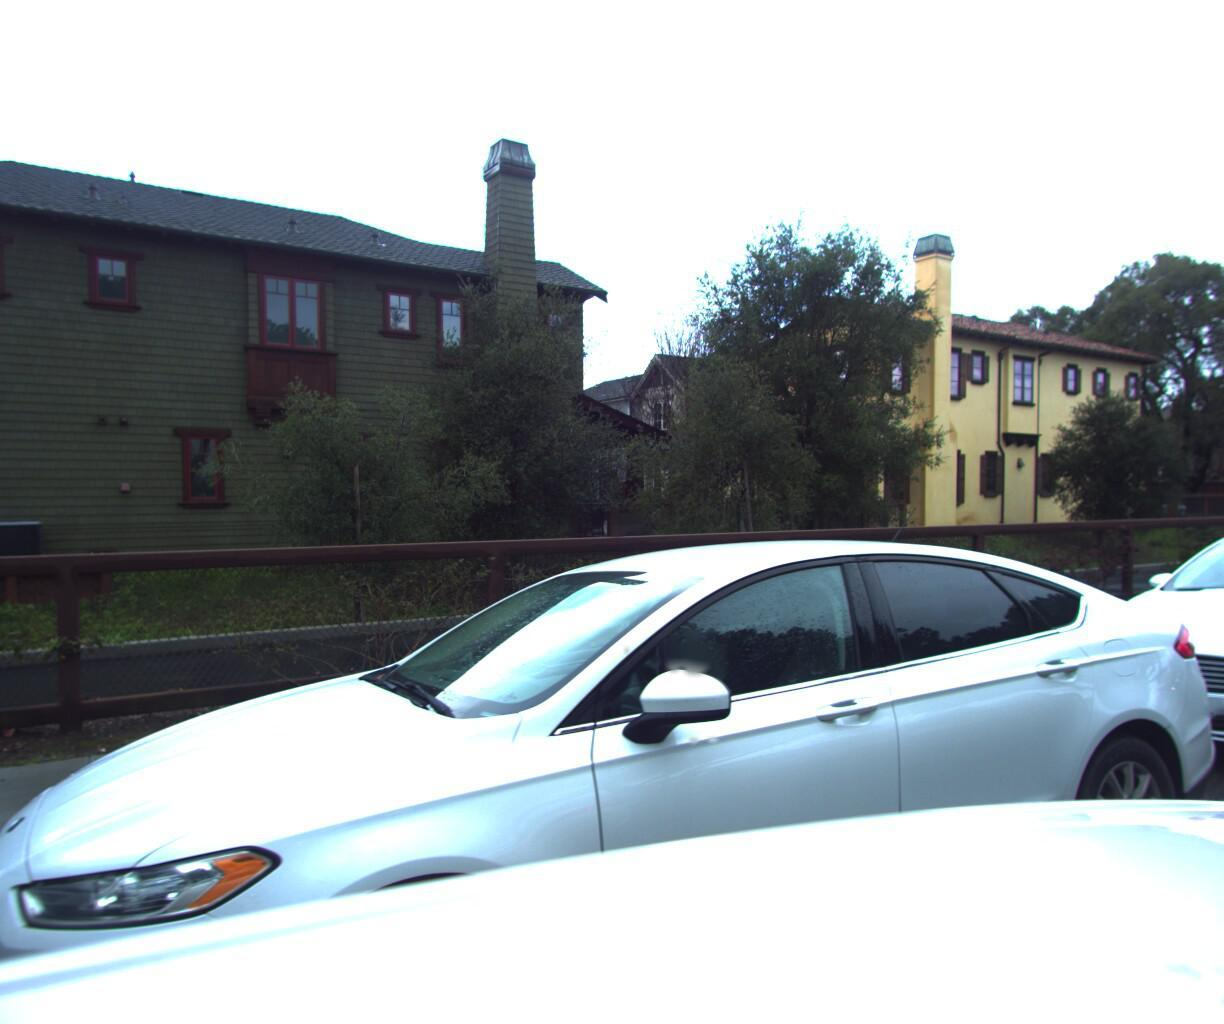car: (0, 521, 1224, 1024), (1031, 513, 1224, 822)
